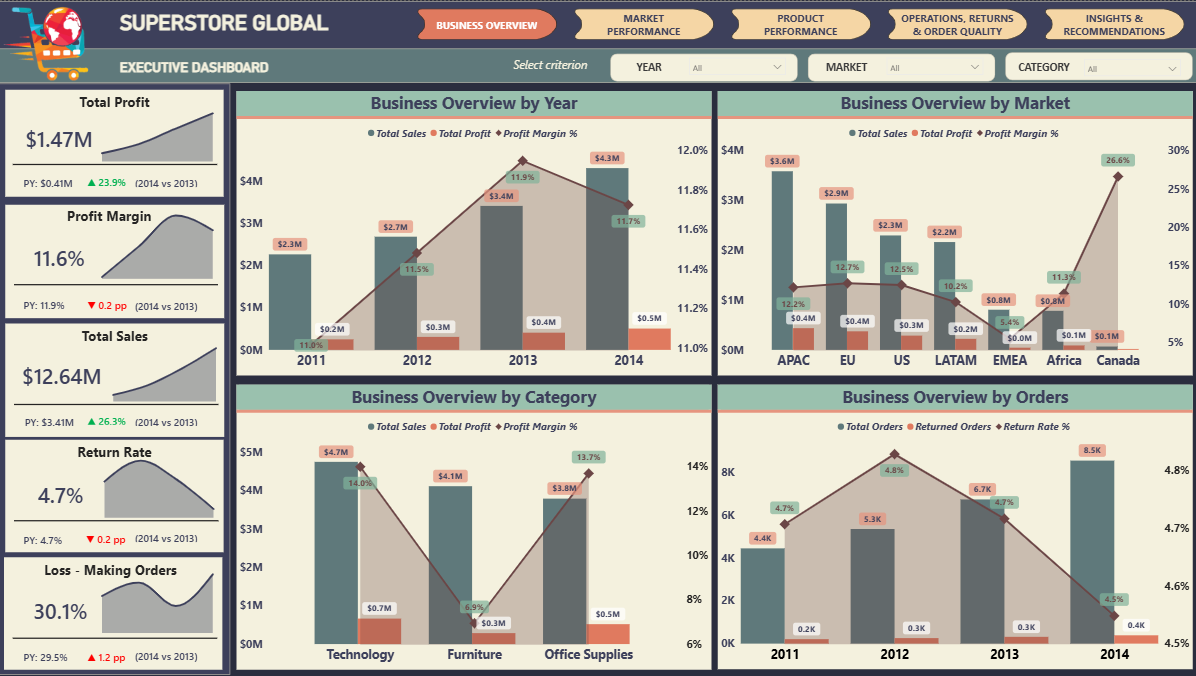

The dashboard page shown, as its layout file describes it:
{"tool":"powerbi","page":{"name":"BUSINESS OVERVIEW","canvas":[1920,1080],"ordinal":0},"visuals":[{"type":"shape","box":[0,0,1920,78],"z":0},{"type":"shape","box":[978,83,300,45],"z":0,"group":"g3"},{"type":"textbox","box":[188.9,0,355.8,75.2],"z":1000,"group":"g8"},{"type":"shape","box":[0,76.7,1920,55],"z":1000},{"type":"textbox","box":[990.2,89.9,100,34.4],"z":1000,"group":"g3"},{"type":"shape","box":[10.1,143,349.4,171.6],"z":1000,"group":"g1"},{"type":"shape","box":[10.1,325,350.6,181.5],"z":1000,"group":"g2"},{"type":"shape","box":[10.2,515.6,350.6,181.5],"z":1000,"group":"g6"},{"type":"shape","box":[10.2,703.4,349.4,180],"z":1000,"group":"g4"},{"type":"shape","box":[9.1,890,349.4,180],"z":1000,"group":"g5"},{"type":"textbox","box":[818.9,84.4,141.1,40],"z":2000},{"type":"slicer","fields":{"Values":["Dim - Date.Year"]},"box":[1094.7,86.6,174.4,36.7],"z":2000,"group":"g3"},{"type":"textbox","box":[188.9,77,262.3,55],"z":3000,"group":"g8"},{"type":"shape","box":[1293.3,83,300,45],"z":3000,"group":"g3"},{"type":"lineClusteredColumnComboChart","title":"Business Overview by Year","fields":{"Category":["Dim - Date.Year Hierarchy.Year","Dim - Date.Year Hierarchy.Quarter","Dim - Date.Year Hierarchy.Month","Dim - Date.Year Hierarchy.Day"],"Y":["Measure.Total Sales","Measure.Total Profit"],"Y2":["Measure.Profit Margin %"]},"box":[380,144,760,455],"z":3000},{"type":"textbox","box":[1305.6,89.2,100,34.4],"z":4000,"group":"g3"},{"type":"shape","box":[0,132,370,946],"z":4000},{"type":"slicer","fields":{"Values":["Fact - Orders.Market"]},"box":[1410,85.9,174.4,36.7],"z":5000,"group":"g3"},{"type":"group","id":"g1","title":"Group 1","box":[9.9,142.2,350,172.4],"z":5000},{"type":"textbox","box":[9.9,142.9,350,42.9],"z":5000,"group":"g1"},{"type":"textbox","box":[9.9,324.2,332.9,40],"z":5000,"group":"g2"},{"type":"textbox","box":[10.2,515.6,350.6,38.7],"z":5000,"group":"g6"},{"type":"textbox","box":[10,703.1,350,44.3],"z":5000,"group":"g4"},{"type":"textbox","box":[9,890.4,341.2,48.8],"z":5000,"group":"g5"},{"type":"shape","box":[1609.3,82,300,45],"z":6000,"group":"g3"},{"type":"group","id":"g2","title":"Group 1","box":[9.9,323.6,350.9,182.9],"z":6000},{"type":"group","id":"g3","title":"Group 2","box":[978,82,932,46],"z":7000},{"type":"textbox","box":[1621.6,90.6,100,34.4],"z":7000,"group":"g3"},{"type":"slicer","fields":{"Values":["Dim - Product.Category"]},"box":[1726,87.2,174.4,36.7],"z":8000,"group":"g3"},{"type":"lineClusteredColumnComboChart","title":"Business Overview by Market","fields":{"Y":["Measure.Total Sales","Measure.Total Profit"],"Y2":["Measure.Profit Margin %"],"Category":["Dim - Market.Market"]},"box":[1150,144,760,455],"z":8000},{"type":"group","id":"g4","title":"Group 1","box":[10,703.1,350,180.3],"z":9000,"group":"g7"},{"type":"group","id":"g5","title":"Group 1","box":[9,888.6,349.4,181.4],"z":9000},{"type":"group","id":"g6","title":"Group 1","box":[10.2,515.6,350.6,181.5],"z":10000},{"type":"areaChart","fields":{"Category":["Dim - Date.Year Hierarchy.Year"],"Y":["Measure.Total Sales"]},"box":[167.1,515.7,194.3,130],"z":11000},{"type":"lineClusteredColumnComboChart","title":"Business Overview by Category","fields":{"Y":["Measure.Total Sales","Measure.Total Profit"],"Y2":["Measure.Profit Margin %"],"Category":["Dim - Product.Category"]},"box":[380,614.3,760,455.7],"z":12000},{"type":"shape","box":[22.9,248.6,327.1,27.1],"z":13000},{"type":"lineClusteredColumnComboChart","title":"Business Overview by Orders","fields":{"Category":["Dim - Date.Year Hierarchy.Year","Dim - Date.Year Hierarchy.Quarter","Dim - Date.Year Hierarchy.Month","Dim - Date.Year Hierarchy.Day"],"Y":["Measure.Total Orders Count","Measure.Returned Order Count"],"Y2":["Measure.Return Rate %"]},"box":[1150,613.8,760,455],"z":14000},{"type":"shape","box":[23.3,440,326.7,27.8],"z":15000},{"type":"areaChart","fields":{"Category":["Dim - Date.Year Hierarchy.Year"],"Y":["Measure.Return Rate %"]},"box":[154.3,702.9,204.3,130],"z":15000,"group":"g7"},{"type":"cardVisual","fields":{"Data":["Measure.Total Profit"]},"box":[14.3,173.3,164.3,90],"z":16000,"group":"g1"},{"type":"cardVisual","fields":{"Data":["Measure.Profit Margin %"]},"box":[14.3,364.2,165.7,90],"z":16000,"group":"g2"},{"type":"cardVisual","fields":{"Data":["Measure.Total Sales"]},"box":[18.6,550.5,165.7,94.3],"z":16000,"group":"g6"},{"type":"shape","box":[24.3,631.4,327.1,27.1],"z":16000},{"type":"cardVisual","fields":{"Data":["Measure.Return Rate %"]},"box":[18.6,743,161.4,92.9],"z":16000,"group":"g4"},{"type":"cardVisual","fields":{"Data":["Measure.Loss-Making Order %"]},"box":[19,927.8,161.4,92.9],"z":16000,"group":"g5"},{"type":"shape","box":[22.9,1005.7,327.1,27.1],"z":17000},{"type":"cardVisual","fields":{"Data":["Measure.Profit PY Text"]},"box":[10,263.3,144.4,51.1],"z":18000},{"type":"areaChart","fields":{"Category":["Dim - Date.Year Hierarchy.Year"],"Y":["Measure.Total Profit"]},"box":[150,142.2,207.1,120],"z":18001,"group":"g1"},{"type":"areaChart","fields":{"Category":["Dim - Date.Year Hierarchy.Year"],"Y":["Measure.Profit Margin %"]},"box":[149.9,323.6,207.1,125.7],"z":18001,"group":"g2"},{"type":"areaChart","fields":{"Category":["Dim - Date.Year Hierarchy.Year"],"Y":["Measure.Loss-Making Order %"]},"box":[150.5,888.6,207.1,128.6],"z":18001,"group":"g5"},{"type":"cardVisual","fields":{"Data":["Measure.Profit YoY Text"]},"box":[111.1,262.2,144.4,51.1],"z":19000},{"type":"cardVisual","fields":{"Data":["Measure.Profit Period"]},"box":[187.8,263.3,163.3,51.1],"z":20000},{"type":"cardVisual","fields":{"Data":["Measure.Margin PY Text"]},"box":[10,454.3,144.3,61.4],"z":21000},{"type":"shape","box":[24.3,818.6,327.1,27.1],"z":21000,"group":"g7"},{"type":"cardVisual","fields":{"Data":["Measure.Margin YoY"]},"box":[112.9,454.3,144.3,61.4],"z":22000},{"type":"cardVisual","fields":{"Data":["Measure.Margin Period"]},"box":[188.6,455.7,164.3,60],"z":23000},{"type":"cardVisual","fields":{"Data":["Measure.Sales PY Text"]},"box":[11.1,645.8,144.4,51.1],"z":24000},{"type":"cardVisual","fields":{"Data":["Measure.Sales YoY Text"]},"box":[112.2,644.7,144.4,51.1],"z":25000},{"type":"cardVisual","fields":{"Data":["Measure.Sales Period"]},"box":[188.9,645.8,163.3,51.1],"z":26000},{"type":"cardVisual","fields":{"Data":["Measure.Loss PY Text"]},"box":[10,1017.8,144.4,60],"z":27000},{"type":"cardVisual","fields":{"Data":["Measure.Loss YoY Text"]},"box":[111.1,1017.8,144.4,60],"z":28000},{"type":"cardVisual","fields":{"Data":["Measure.Loss Period"]},"box":[187.8,1018.9,163.3,58.9],"z":29000},{"type":"group","id":"g7","title":"Group 3","box":[10,702.9,350,187.1],"z":30000},{"type":"pageNavigator","box":[662,12,1244,50],"z":31000},{"type":"group","id":"g8","title":"Group 4","box":[0,0,544.8,132.1],"z":32000},{"type":"cardVisual","fields":{"Data":["Measure.Return PY Text"]},"box":[10,832.9,144.3,57.1],"z":32000,"group":"g7"},{"type":"cardVisual","fields":{"Data":["Measure.Return YoY Text"]},"box":[110,832.9,145.7,55],"z":33000,"group":"g7"},{"type":"image","box":[0,0,188.9,132.1],"z":33001,"group":"g8"},{"type":"cardVisual","fields":{"Data":["Measure.Return Period"]},"box":[187.3,833.6,163.3,51.1],"z":34000,"group":"g7"}]}

Visuals, with their boxes in screenshot pixels (x1, y1, x2, y2), scaled from the page's 1920x1080 canvas onto the 1196x676 screenshot:
shape: locate(0, 0, 1195, 49)
shape: locate(609, 52, 796, 80)
textbox: locate(118, 0, 339, 47)
shape: locate(0, 48, 1195, 82)
textbox: locate(617, 56, 679, 78)
shape: locate(6, 90, 224, 197)
shape: locate(6, 203, 225, 317)
shape: locate(6, 323, 225, 436)
shape: locate(6, 440, 224, 553)
shape: locate(6, 557, 223, 670)
textbox: locate(510, 53, 598, 78)
slicer - Dim - Date.Year: locate(682, 54, 791, 77)
textbox: locate(118, 48, 281, 83)
shape: locate(806, 52, 992, 80)
"Business Overview by Year" lineClusteredColumnComboChart: locate(237, 90, 710, 375)
textbox: locate(813, 56, 876, 77)
shape: locate(0, 83, 230, 675)
slicer - Fact - Orders.Market: locate(878, 54, 987, 77)
"Group 1" group: locate(6, 89, 224, 197)
textbox: locate(6, 89, 224, 116)
textbox: locate(6, 203, 214, 228)
textbox: locate(6, 323, 225, 347)
textbox: locate(6, 440, 224, 468)
textbox: locate(6, 557, 218, 588)
shape: locate(1002, 51, 1189, 79)
"Group 1" group: locate(6, 203, 225, 317)
"Group 2" group: locate(609, 51, 1190, 80)
textbox: locate(1010, 57, 1072, 78)
slicer - Dim - Product.Category: locate(1075, 55, 1184, 78)
"Business Overview by Market" lineClusteredColumnComboChart: locate(716, 90, 1190, 375)
"Group 1" group: locate(6, 440, 224, 553)
"Group 1" group: locate(6, 556, 223, 670)
"Group 1" group: locate(6, 323, 225, 436)
areaChart - Dim - Date.Year Hierarchy.Year x Measure.Total Sales: locate(104, 323, 225, 404)
"Business Overview by Category" lineClusteredColumnComboChart: locate(237, 385, 710, 670)
shape: locate(14, 156, 218, 173)
"Business Overview by Orders" lineClusteredColumnComboChart: locate(716, 384, 1190, 669)
shape: locate(15, 275, 218, 293)
areaChart - Dim - Date.Year Hierarchy.Year x Measure.Return Rate %: locate(96, 440, 223, 521)
cardVisual - Measure.Total Profit: locate(9, 108, 111, 165)
cardVisual - Measure.Profit Margin %: locate(9, 228, 112, 284)
cardVisual - Measure.Total Sales: locate(12, 345, 115, 404)
shape: locate(15, 395, 219, 412)
cardVisual - Measure.Return Rate %: locate(12, 465, 112, 523)
cardVisual - Measure.Loss-Making Order %: locate(12, 581, 112, 639)
shape: locate(14, 629, 218, 646)
cardVisual - Measure.Profit PY Text: locate(6, 165, 96, 197)
areaChart - Dim - Date.Year Hierarchy.Year x Measure.Total Profit: locate(93, 89, 222, 164)
areaChart - Dim - Date.Year Hierarchy.Year x Measure.Profit Margin %: locate(93, 203, 222, 281)
areaChart - Dim - Date.Year Hierarchy.Year x Measure.Loss-Making Order %: locate(94, 556, 223, 637)
cardVisual - Measure.Profit YoY Text: locate(69, 164, 159, 196)
cardVisual - Measure.Profit Period: locate(117, 165, 219, 197)
cardVisual - Measure.Margin PY Text: locate(6, 284, 96, 323)
shape: locate(15, 512, 219, 529)
cardVisual - Measure.Margin YoY: locate(70, 284, 160, 323)
cardVisual - Measure.Margin Period: locate(117, 285, 220, 323)
cardVisual - Measure.Sales PY Text: locate(7, 404, 97, 436)
cardVisual - Measure.Sales YoY Text: locate(70, 404, 160, 436)
cardVisual - Measure.Sales Period: locate(118, 404, 219, 436)
cardVisual - Measure.Loss PY Text: locate(6, 637, 96, 675)
cardVisual - Measure.Loss YoY Text: locate(69, 637, 159, 675)
cardVisual - Measure.Loss Period: locate(117, 638, 219, 675)
"Group 3" group: locate(6, 440, 224, 557)
pageNavigator: locate(412, 8, 1187, 39)
"Group 4" group: locate(0, 0, 339, 83)
cardVisual - Measure.Return PY Text: locate(6, 521, 96, 557)
cardVisual - Measure.Return YoY Text: locate(69, 521, 159, 556)
image: locate(0, 0, 118, 83)
cardVisual - Measure.Return Period: locate(117, 522, 218, 554)
